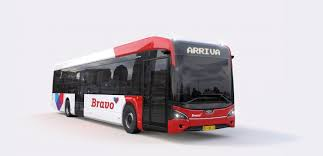bus: (51, 36, 238, 138)
